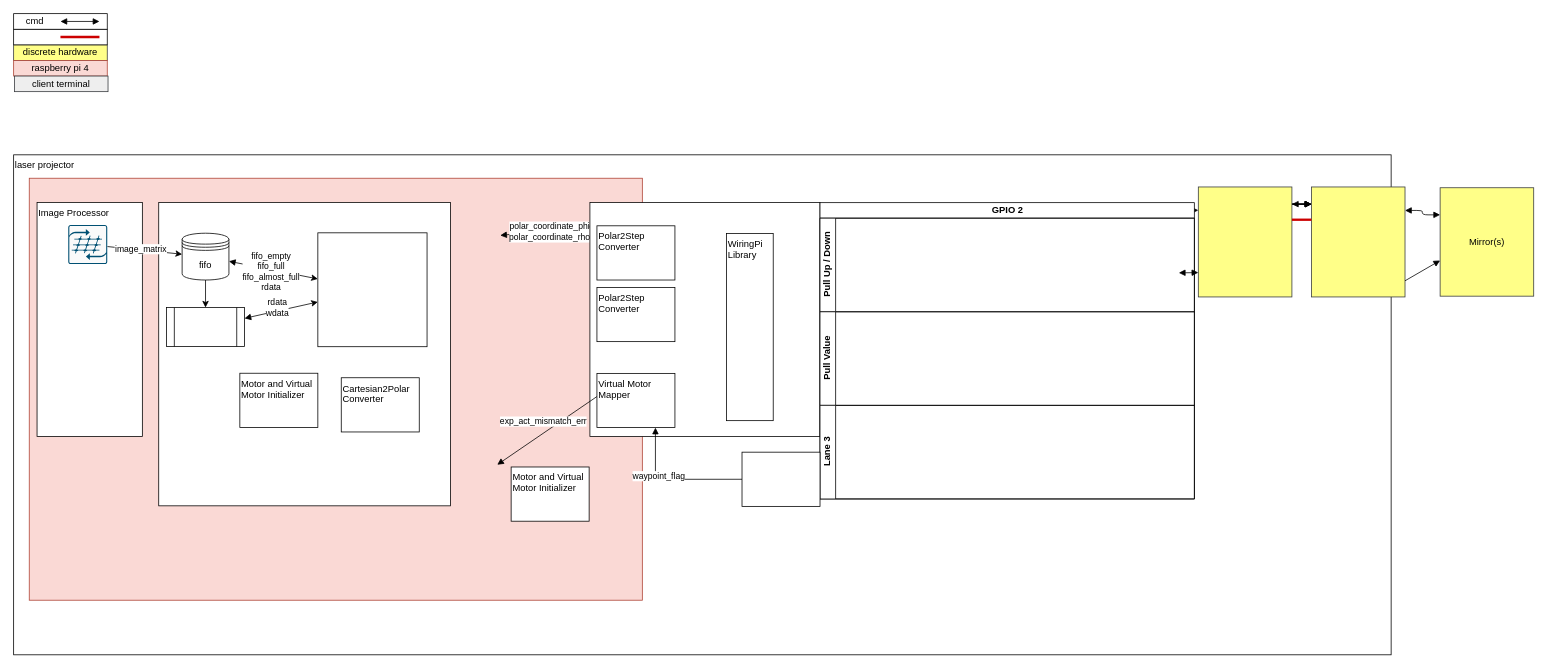
This 1548x668 diagram has some shape labels left out. The box of each missing label's shape, as (x1, y1, x2, y2) in pixels:
Command Sequencer: (158, 202, 450, 506)
current image cache: (166, 307, 245, 347)
Image Sequencer: (317, 232, 427, 347)
laser controller (raspbery pi 4): (28, 177, 642, 600)
Mirror Motor(s): (1311, 186, 1405, 297)
Motor Controller: (589, 202, 820, 437)
Motor Driver: (1198, 186, 1292, 297)
power: (13, 28, 107, 45)
Reference Detector: (741, 451, 820, 506)
